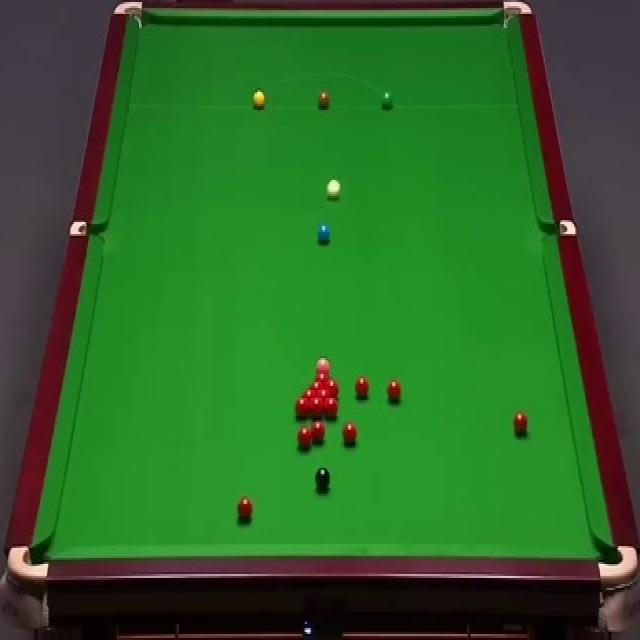black-ball: (315, 466, 331, 494)
blue-ball: (316, 222, 331, 245)
brown-ball: (318, 90, 330, 110)
green-ball: (379, 91, 395, 112)
pink-ball: (315, 357, 331, 370)
red-ball: (236, 496, 253, 523), (512, 410, 529, 436), (342, 421, 358, 448), (296, 426, 312, 451), (386, 379, 402, 402), (355, 376, 370, 399), (295, 396, 309, 419), (324, 398, 338, 420), (310, 397, 323, 419), (327, 379, 339, 401), (317, 370, 332, 387), (317, 386, 331, 401), (304, 388, 317, 402), (312, 380, 324, 390), (251, 518, 252, 518)
white-ball: (326, 179, 344, 204)
yellow-ball: (252, 90, 265, 110)
